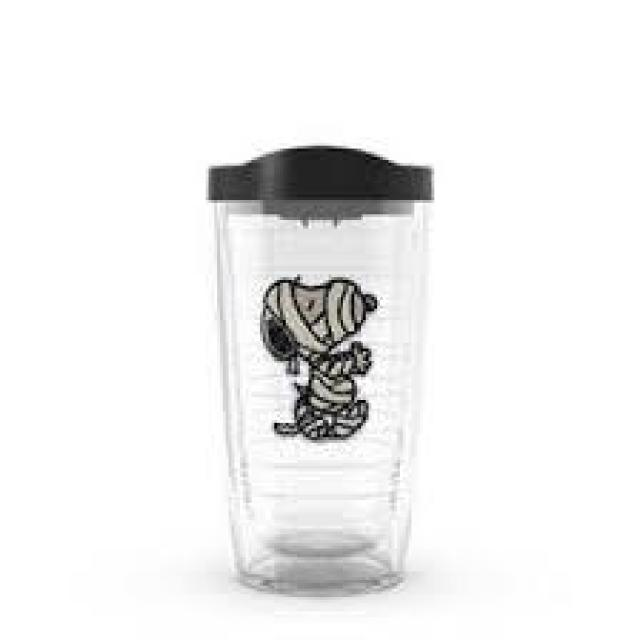bottle: (200, 136, 440, 598)
